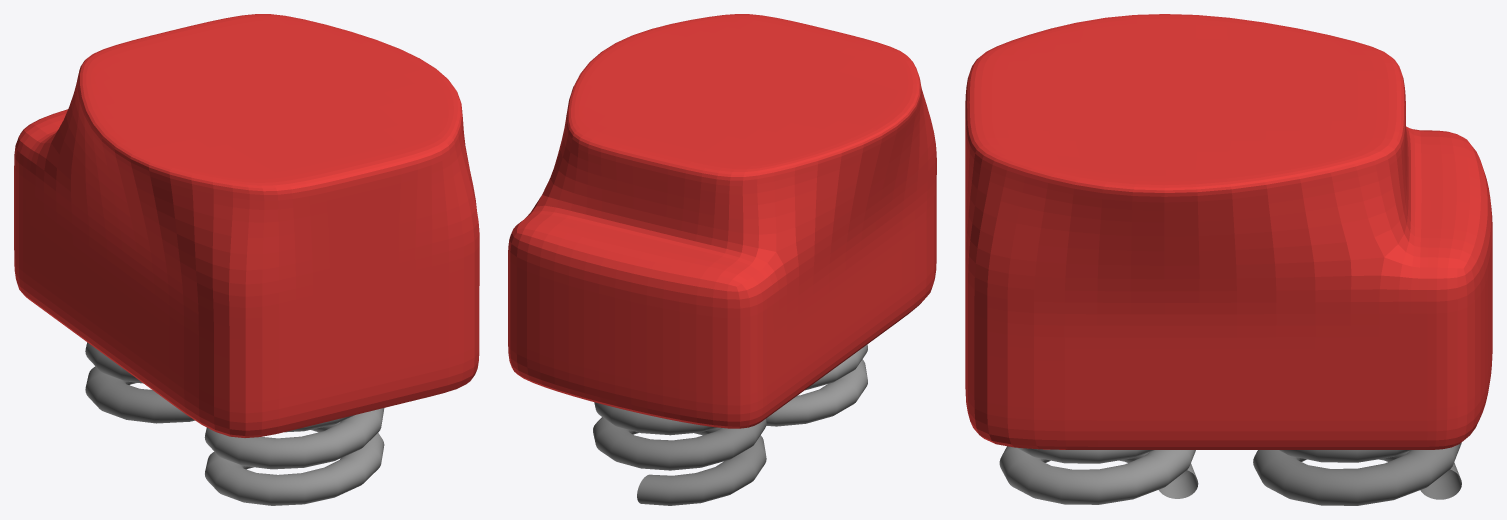
Rendered from spring.glb.
3 views of the same model, side by side, from view 1: azimuth 30°, elevation 25°; view 2: azimuth 150°, elevation 25°; view 3: azimuth 270°, elevation 25° (orthographic). The views are drawn at different scales.
Parts seen in each view (by area): view 1: Cube.001, Circle, Circle.001; view 2: Cube.001, Circle.001, Circle; view 3: Cube.001, Circle.001, Circle.
Boxes of the visible parts, left/top/right/bottom form: Cube.001: left=14, top=14, right=479, bottom=437; Circle: left=204, top=408, right=384, bottom=505; Circle.001: left=85, top=342, right=194, bottom=423; Cube.001: left=508, top=14, right=936, bottom=428; Circle.001: left=593, top=402, right=766, bottom=505; Circle: left=766, top=344, right=867, bottom=426; Cube.001: left=965, top=14, right=1492, bottom=449; Circle.001: left=1253, top=442, right=1461, bottom=505; Circle: left=999, top=446, right=1198, bottom=504.
Size of the model in its own units: 0.2379 by 0.2541 by 0.2996.
